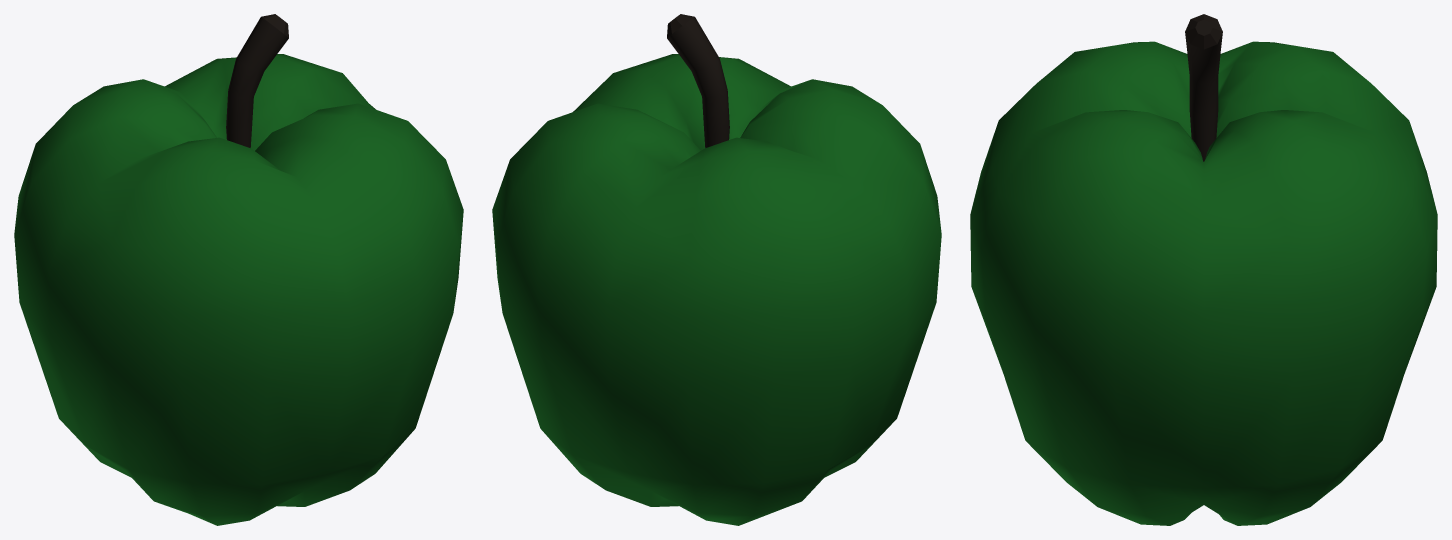
File: Apple_2.FBX
3 views of the same model, side by side, from view 1: azimuth 30°, elevation 25°; view 2: azimuth 150°, elevation 25°; view 3: azimuth 270°, elevation 25° (orthographic). The views are drawn at different scales.
Parts seen in each view (by area): view 1: Apple_2; view 2: Apple_2; view 3: Apple_2.
Part boxes in pixels (x1,y1,x2,y2): Apple_2: [14, 14, 463, 525]; Apple_2: [492, 14, 941, 525]; Apple_2: [970, 14, 1437, 525].
Bounding box in the file's own units: 1042 × 1042 × 1242.
